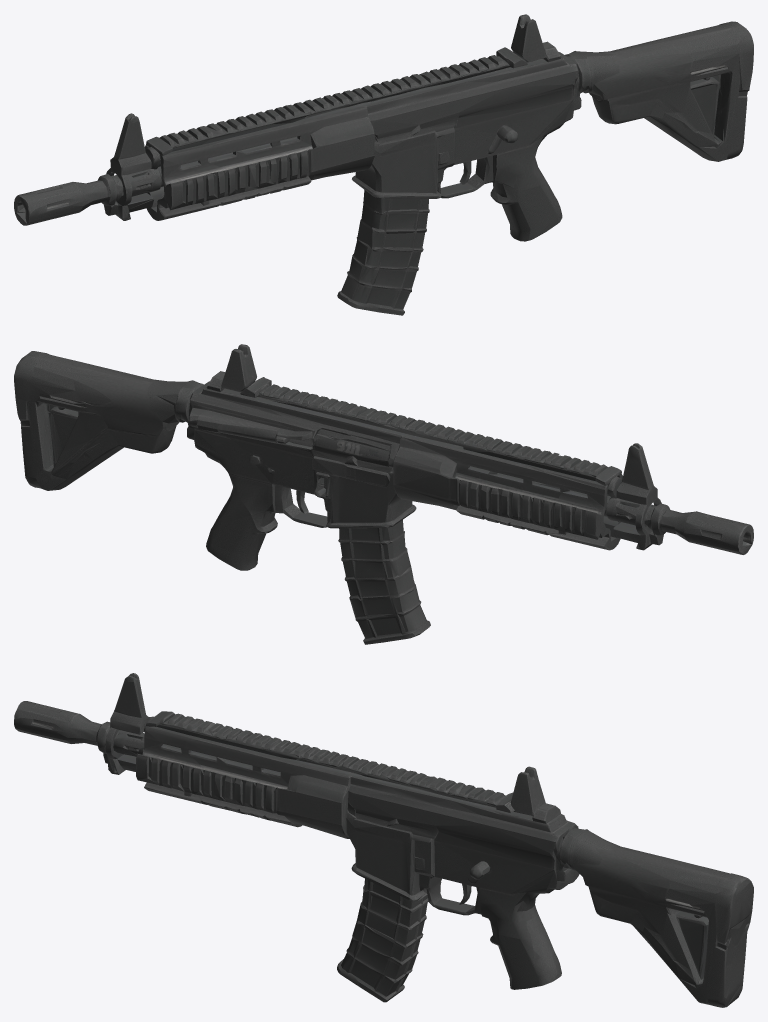
File: assault_rifle.glb
3 renders of one model, top to bottom at view 1: azimuth 30°, elevation 25°; view 2: azimuth 150°, elevation 25°; view 3: azimuth 330°, elevation 25°, orthographic.
Visible parts, largest first — view 1: mesh_node; view 2: mesh_node; view 3: mesh_node.
Boxes of the visible parts, <box> form: mesh_node: <box>14,14,753,315</box>; mesh_node: <box>14,344,753,644</box>; mesh_node: <box>14,673,753,1007</box>.
Bounding box in the file's own units: 1.9 × 0.6518 × 0.1828.
Materials: 1 (1 with a texture image).
